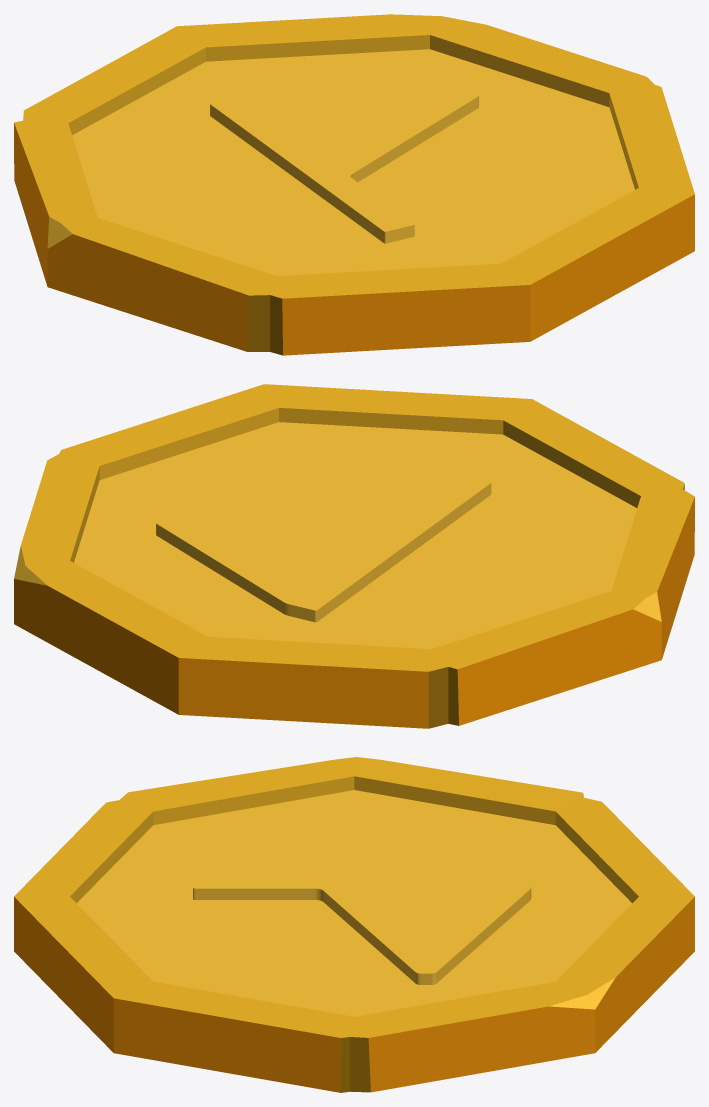
File: Coin_01.glb
3 renders of one model, top to bottom at view 1: azimuth 30°, elevation 25°; view 2: azimuth 150°, elevation 25°; view 3: azimuth 270°, elevation 25°, orthographic. The views are drawn at different scales.
Parts seen in each view (by area): view 1: Coin_01, flag; view 2: Coin_01, flag; view 3: Coin_01, flag.
Part boxes in pixels (<box>): Coin_01: <box>14,14,694,355</box>; flag: <box>210,88,478,243</box>; Coin_01: <box>14,384,694,728</box>; flag: <box>156,475,491,622</box>; Coin_01: <box>14,757,694,1092</box>; flag: <box>193,874,531,984</box>.
Bounding box in the file's own units: 0.1096 × 0.0103 × 0.1105.
3 materials, 1 textured.
